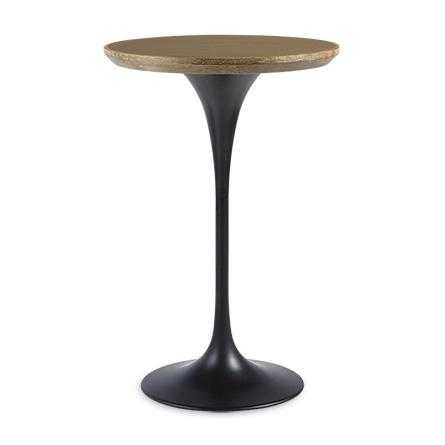obstacle: (105, 35, 337, 410)
